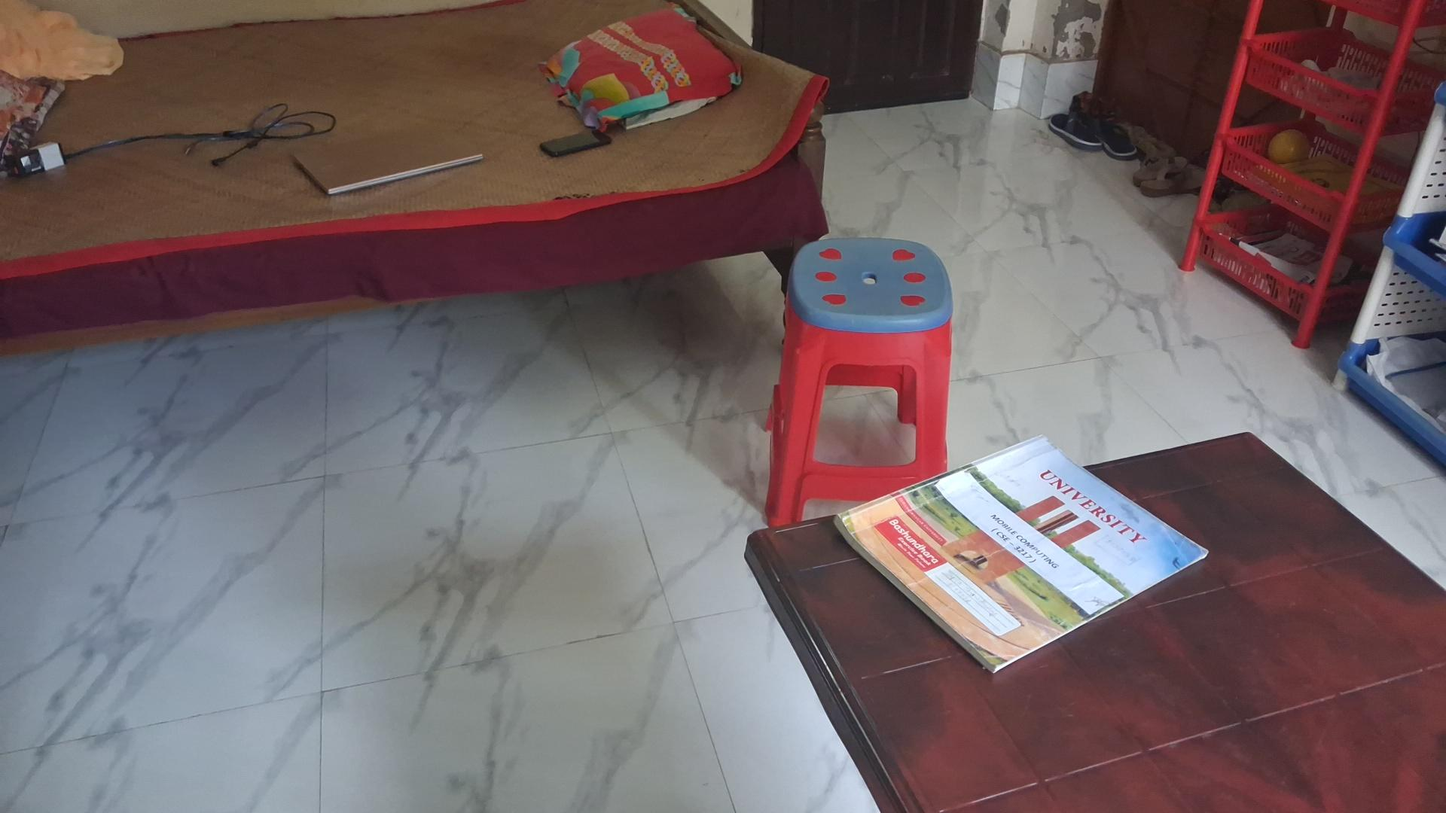Footwear: (1049, 108, 1137, 160), (1133, 150, 1210, 200)
Laptop: (295, 117, 485, 195)
Notebook: (838, 436, 1208, 679)
Phone: (540, 127, 612, 156)
Pillow: (543, 7, 740, 126)
Rack: (1183, 2, 1446, 366)
Stool: (763, 234, 955, 529)
Table: (740, 425, 1446, 813)
